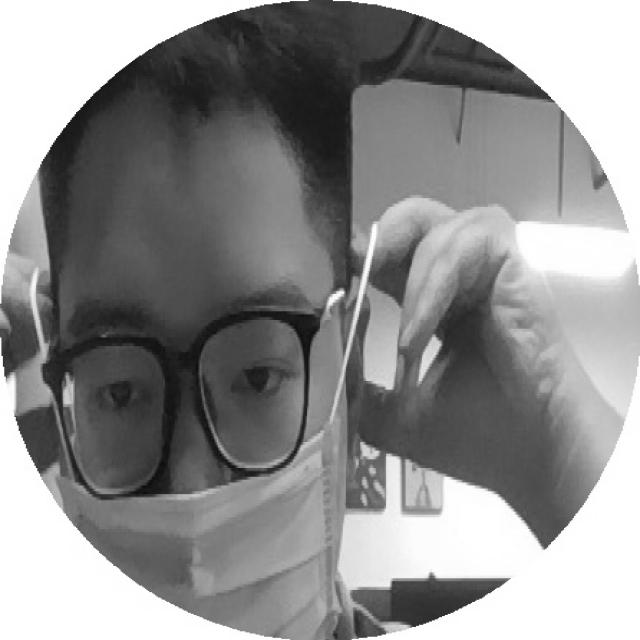fake: (53, 410, 350, 635)
real: (43, 325, 309, 417)
